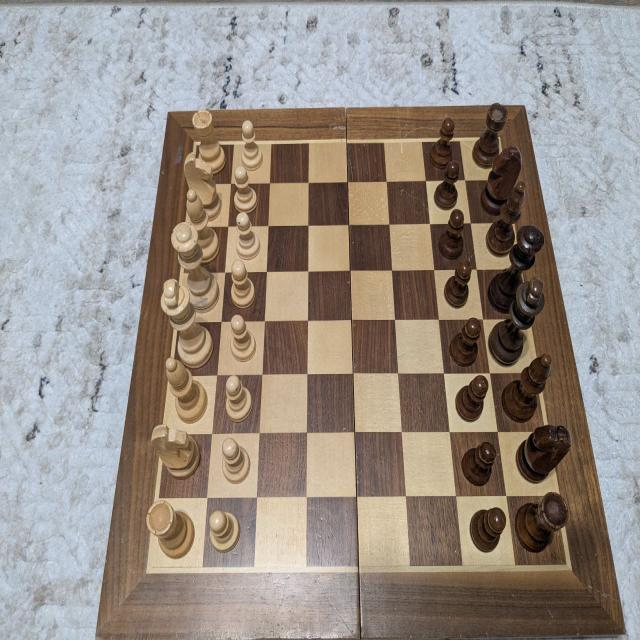black_bishop: (498, 353, 554, 423), (484, 183, 528, 254)
black_king: (488, 275, 548, 365)
black_knight: (516, 423, 571, 479), (480, 145, 522, 215)
black_pawn: (469, 506, 506, 553), (449, 318, 482, 370), (454, 376, 489, 424), (461, 440, 497, 486), (429, 116, 455, 169), (438, 210, 465, 260), (433, 162, 460, 210), (444, 260, 470, 309)
black_queen: (486, 221, 544, 314)
black_rook: (514, 492, 570, 552), (471, 104, 507, 166)
white_bishop: (162, 356, 208, 423), (181, 192, 220, 266)
white_king: (160, 280, 213, 373)
white_knight: (149, 424, 199, 478), (185, 156, 221, 220)
white_pawn: (224, 372, 252, 424), (221, 434, 250, 482), (208, 510, 239, 553), (234, 211, 260, 259), (230, 260, 255, 309), (230, 313, 255, 362), (233, 168, 257, 215), (242, 121, 264, 170)
white_queen: (169, 223, 219, 314)
white_rook: (145, 499, 193, 558), (192, 107, 226, 175)
